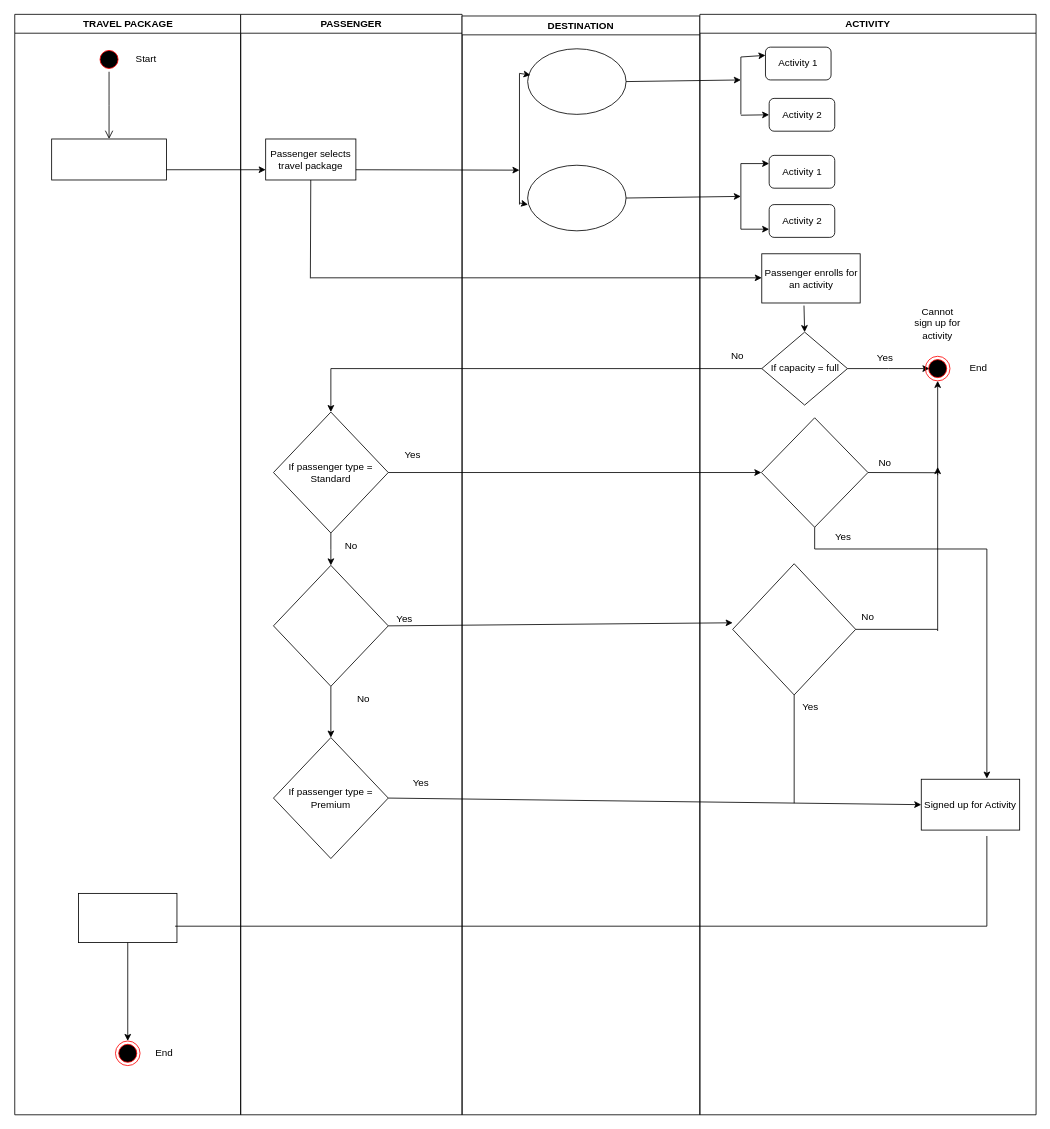
Some shapes in this 1050 by 1129 pixel diagram are drawn without their labels. Here are the shapes that lost their labels. From the top down, the centre of each, then its label:
At pixel 576 81: "Destination 1".
At pixel 108 159: "Travel package created".
At pixel 576 197: "Destination 2".
At pixel 814 472: "Balance> cost of activity".
At pixel 330 625: "If passenger type = Gold".
At pixel 794 629: "Balance>90% of cost of activity".
At pixel 127 918: "Passenger added to travel package".
